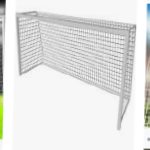goals: (14, 7, 137, 130)
